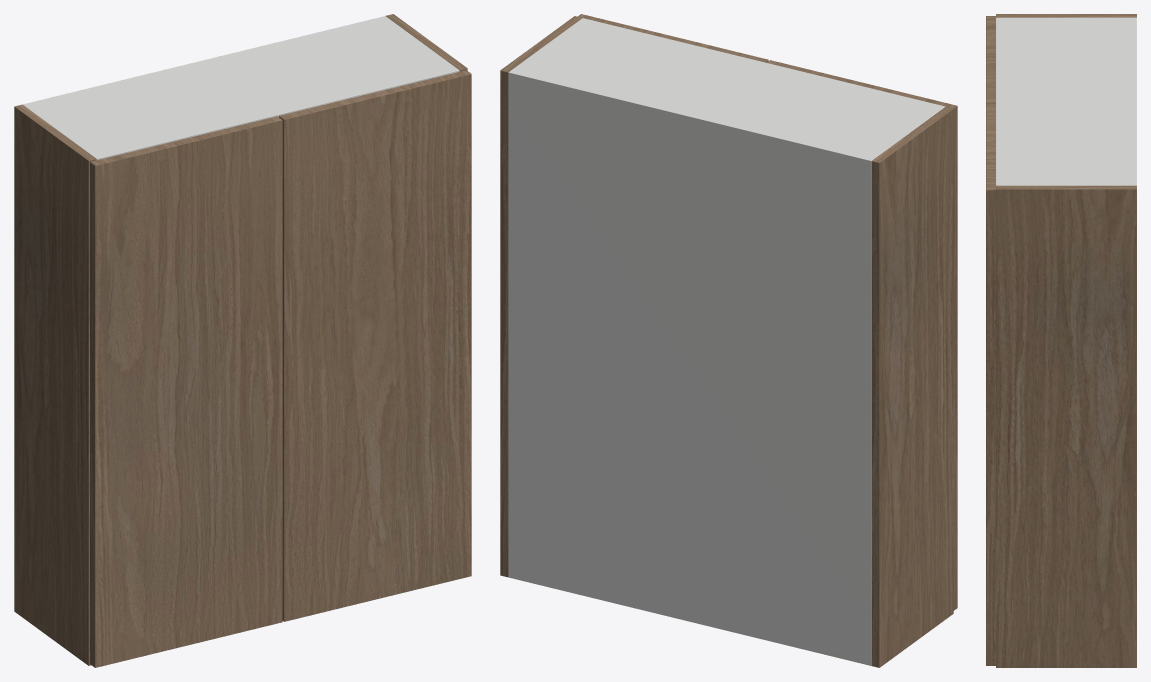
Rendered from oppein-pb-mnw-w3342.glb.
3 views of the same model, side by side, from view 1: azimuth 30°, elevation 25°; view 2: azimuth 150°, elevation 25°; view 3: azimuth 270°, elevation 25° (orthographic). The views are drawn at different scales.
Parts seen in each view (by area): view 1: Door, Door.001, Cabinet side, Cabinet top; view 2: Cabinet back, Cabinet side, Cabinet top, Cabinet side.001, Door, Cabinet bottom, Door.001; view 3: Cabinet side.001, Cabinet top, Door.001, Door, Cabinet side.
Part boxes in pixels (x1,y1,x2,y2): Door: (90, 116, 282, 667); Door.001: (279, 70, 471, 621); Cabinet side: (14, 104, 96, 665); Cabinet top: (22, 16, 459, 160); Cabinet back: (508, 73, 871, 665); Cabinet side: (871, 106, 953, 667); Cabinet top: (508, 18, 945, 163); Cabinet side.001: (500, 16, 582, 577); Door: (766, 60, 957, 610); Cabinet bottom: (508, 573, 871, 665); Door.001: (578, 14, 768, 62); Cabinet side.001: (996, 185, 1136, 667); Cabinet top: (996, 17, 1136, 185); Door.001: (986, 103, 995, 665); Door: (986, 16, 995, 103); Cabinet side: (996, 14, 1136, 17).
Bounding box in the file's own units: 0.8382 × 1.07 × 0.3048.
2 materials, 1 textured.
